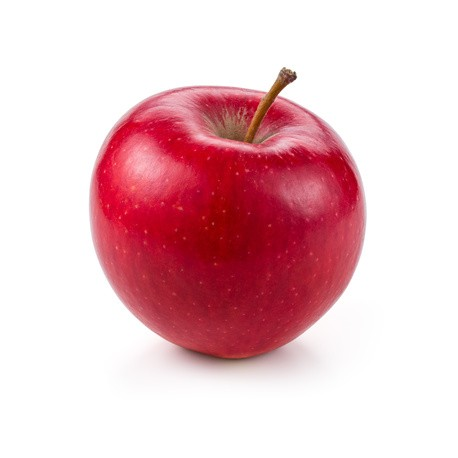apple: (87, 66, 371, 366)
